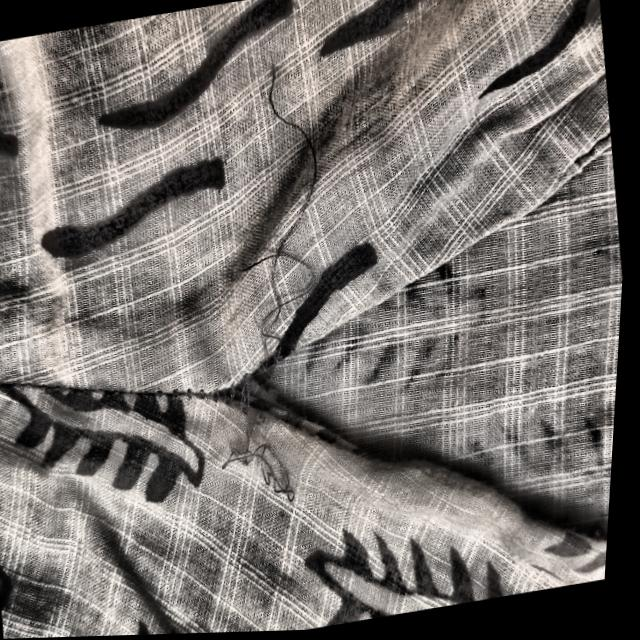Stitch: (155, 21, 403, 543)
